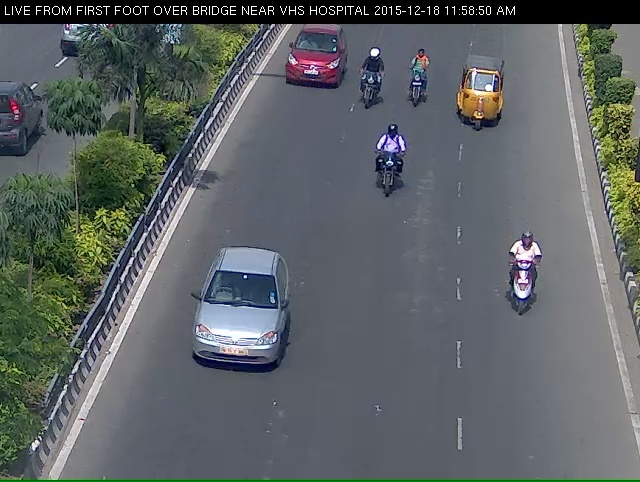Auto: (448, 49, 506, 143)
Car: (181, 272, 281, 405), (280, 23, 342, 101)
Person: (510, 237, 542, 333), (367, 135, 403, 211), (350, 45, 382, 124), (405, 48, 429, 121)
